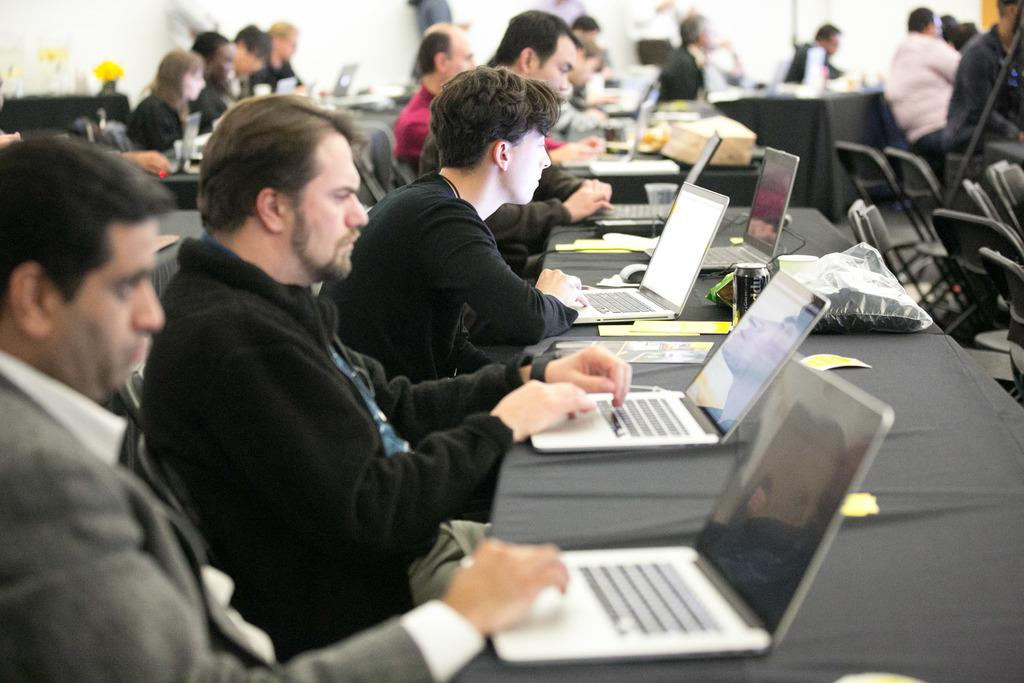Laptop: (434, 334, 856, 657), (530, 270, 830, 452), (572, 179, 730, 320), (586, 131, 721, 224), (700, 149, 800, 274), (172, 115, 200, 173), (330, 63, 360, 99), (274, 74, 296, 94)
